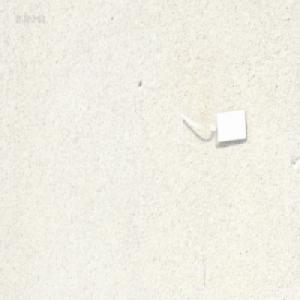LuggageTag: (179, 104, 248, 146)
